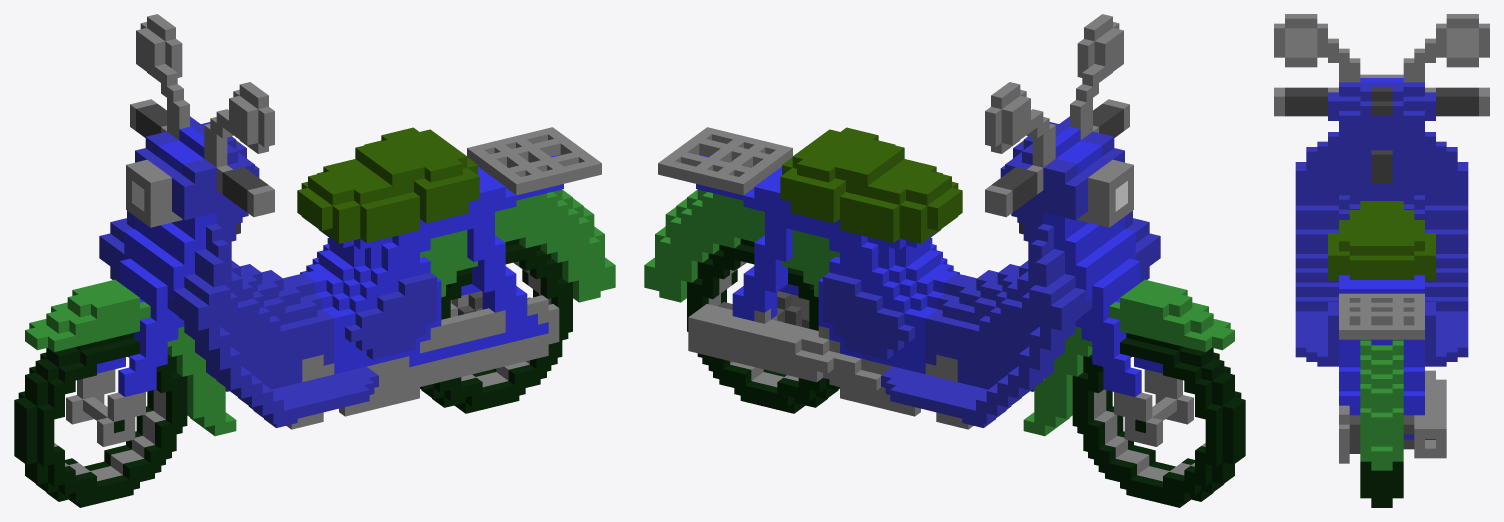
File: Grub-1-Scooter.obj
The picture shows the model from 3 angles, left to right: view 1: azimuth 30°, elevation 25°; view 2: azimuth 150°, elevation 25°; view 3: azimuth 270°, elevation 25°; orthographic projection. The views are drawn at different scales.
Visible parts, largest first — view 1: Scooter; view 2: Scooter; view 3: Scooter.
Part boxes in pixels (x1,y1,x2,y2): Scooter: (14, 14, 615, 507); Scooter: (644, 14, 1245, 507); Scooter: (1274, 14, 1489, 507).
Size of the model in its own units: 5.5 by 3.7 by 2.
